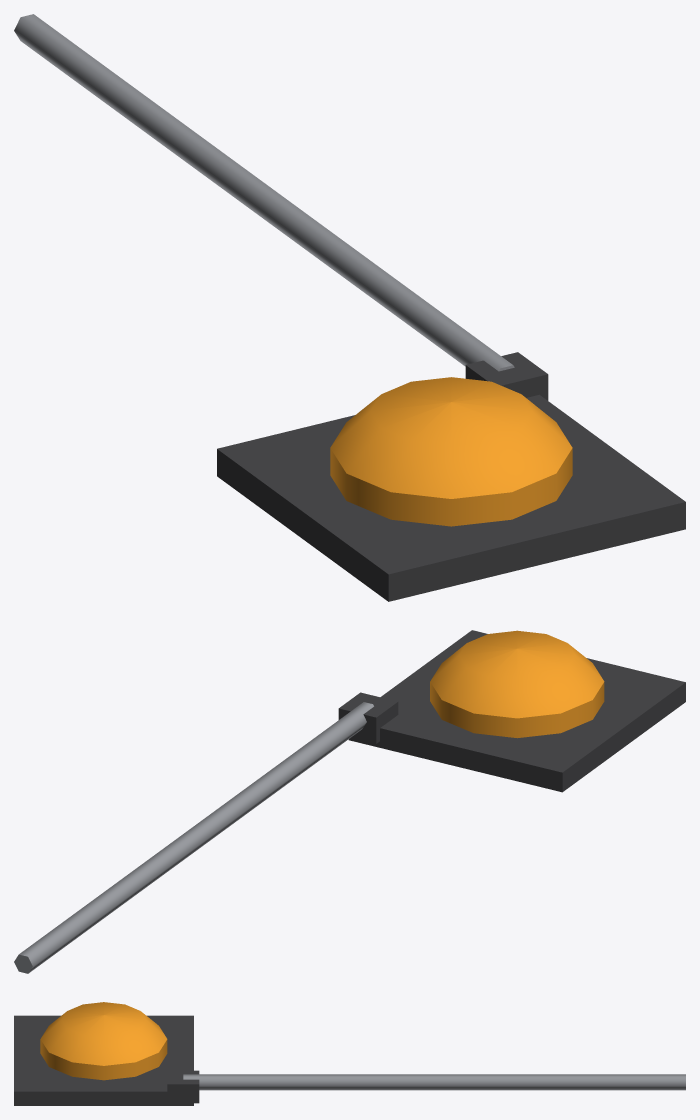
Rendered from boat20_beacon.obj.
3 renders of one model, top to bottom at view 1: azimuth 30°, elevation 25°; view 2: azimuth 150°, elevation 25°; view 3: azimuth 270°, elevation 25°, orthographic. The views are drawn at different scales.
Parts seen in each view (by area): view 1: boat20_beacon; view 2: boat20_beacon; view 3: boat20_beacon.
Part boxes in pixels (x1,y1,x2,y2): boat20_beacon: [14, 14, 685, 601]; boat20_beacon: [14, 630, 685, 973]; boat20_beacon: [14, 1002, 685, 1105].
Bounding box in the file's own units: 0.35 × 0.11 × 1.27.
